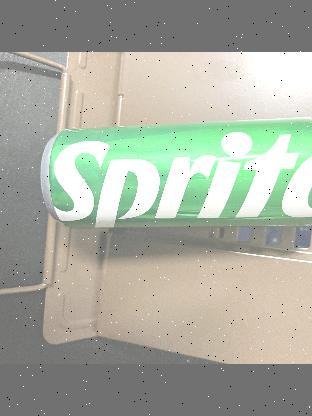Can: (38, 116, 312, 228)
